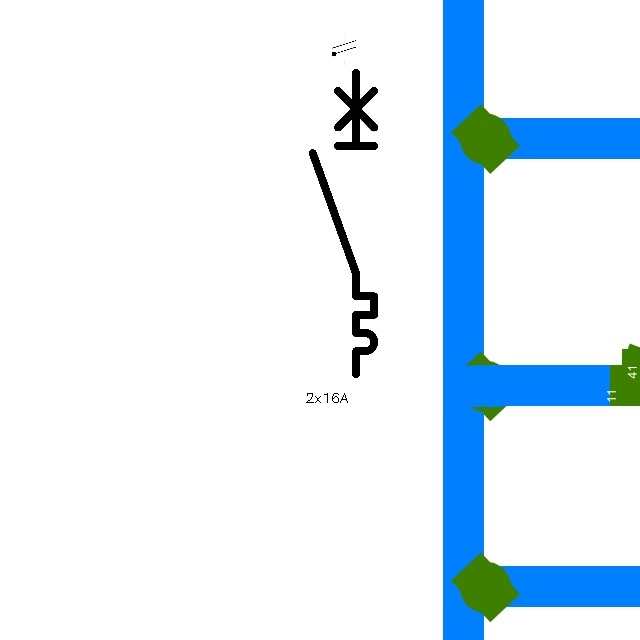interruptor_termomagnetico: (305, 64, 382, 381)
